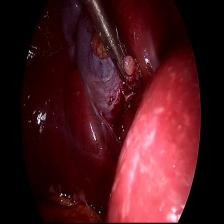Grasper: (105, 28, 134, 86)
